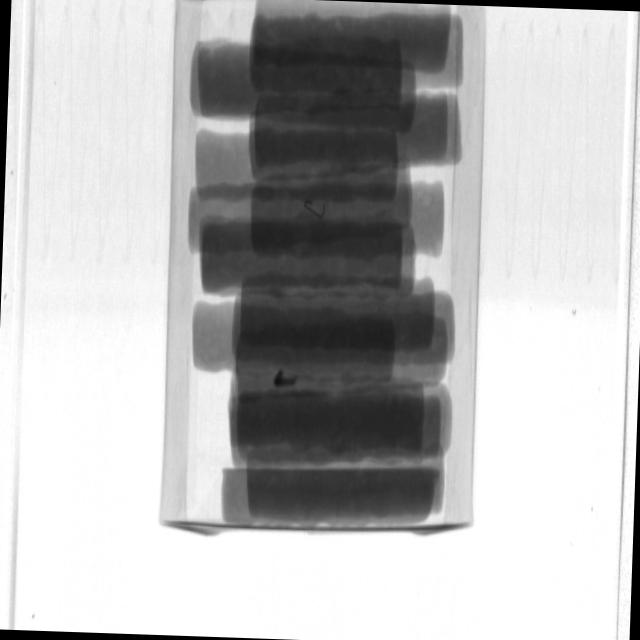ym: (274, 372, 299, 389), (306, 201, 327, 218)
